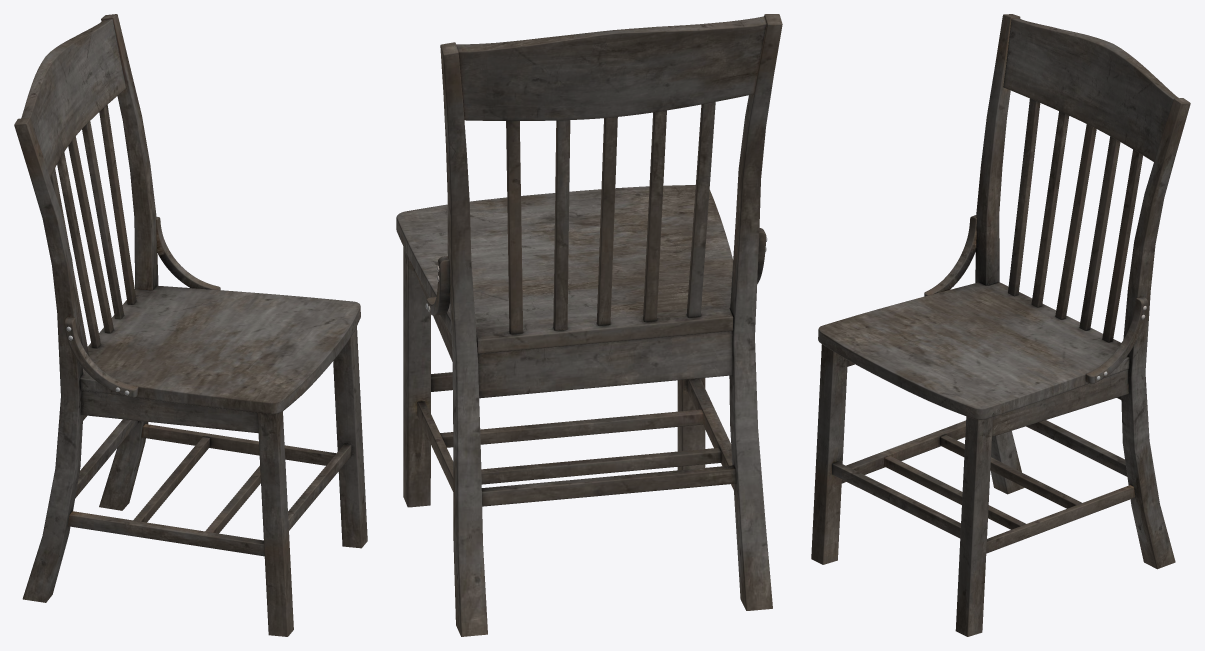
File: NFG-I0005.glb
3 views of the same model, side by side, from view 1: azimuth 30°, elevation 25°; view 2: azimuth 150°, elevation 25°; view 3: azimuth 270°, elevation 25° (orthographic). The views are drawn at different scales.
Visible parts, largest first — view 1: Chair 03-Freepoly.org.002; view 2: Chair 03-Freepoly.org.002; view 3: Chair 03-Freepoly.org.002.
Part boxes in pixels (<box>): Chair 03-Freepoly.org.002: <box>14,14,367,636</box>; Chair 03-Freepoly.org.002: <box>396,14,782,636</box>; Chair 03-Freepoly.org.002: <box>811,14,1190,636</box>.
Size of the model in its own units: 1.41 by 2 by 1.44.
1 material, 1 textured.
